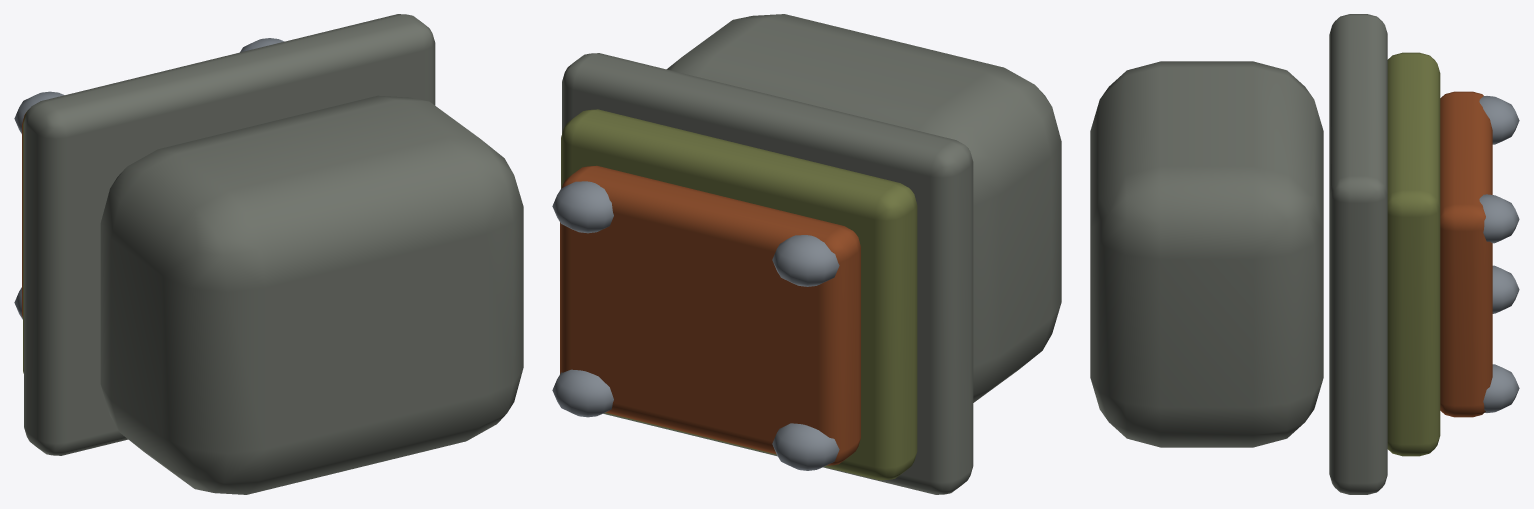
File: mo_ablative.glb
3 views of the same model, side by side, from view 1: azimuth 30°, elevation 25°; view 2: azimuth 150°, elevation 25°; view 3: azimuth 270°, elevation 25° (orthographic). The views are drawn at different scales.
Parts seen in each view (by area): view 1: mo_ablative; view 2: mo_ablative; view 3: mo_ablative.
Boxes of the visible parts, left/top/right/bottom form: mo_ablative: left=14, top=14, right=523, bottom=494; mo_ablative: left=552, top=14, right=1061, bottom=494; mo_ablative: left=1090, top=14, right=1519, bottom=494.
Size of the model in its own units: 0.1548 by 0.129 by 0.1582.
